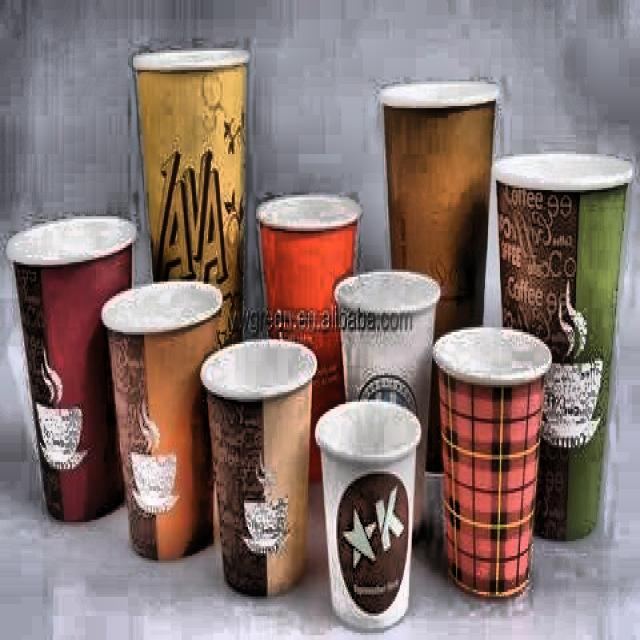Cup: (499, 138, 640, 543), (124, 39, 253, 458), (376, 64, 498, 486), (10, 203, 136, 527), (102, 266, 224, 560), (204, 312, 324, 607), (431, 322, 549, 614), (262, 185, 366, 482), (337, 259, 437, 550), (310, 367, 419, 630)
